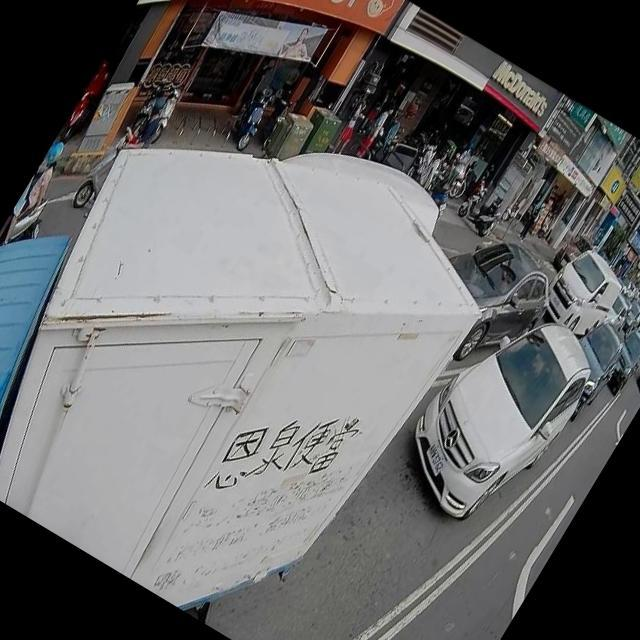person: (0, 135, 78, 248), (226, 52, 276, 123), (124, 90, 175, 151), (330, 94, 374, 158), (352, 102, 396, 162), (356, 85, 394, 140), (442, 142, 477, 192), (416, 146, 450, 191), (406, 138, 440, 182), (518, 200, 546, 240)
